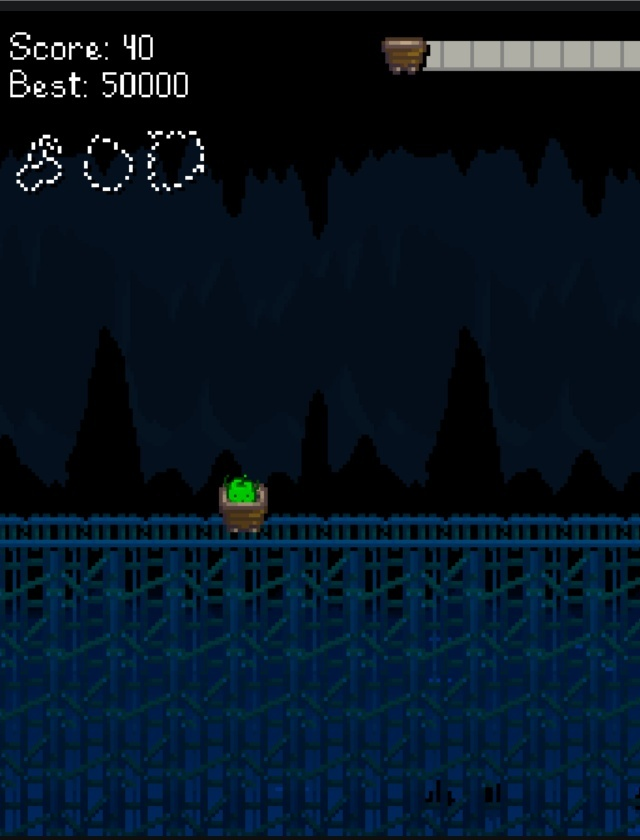minecart: (220, 485, 266, 531)
tracks: (276, 504, 640, 556), (0, 508, 214, 554)
